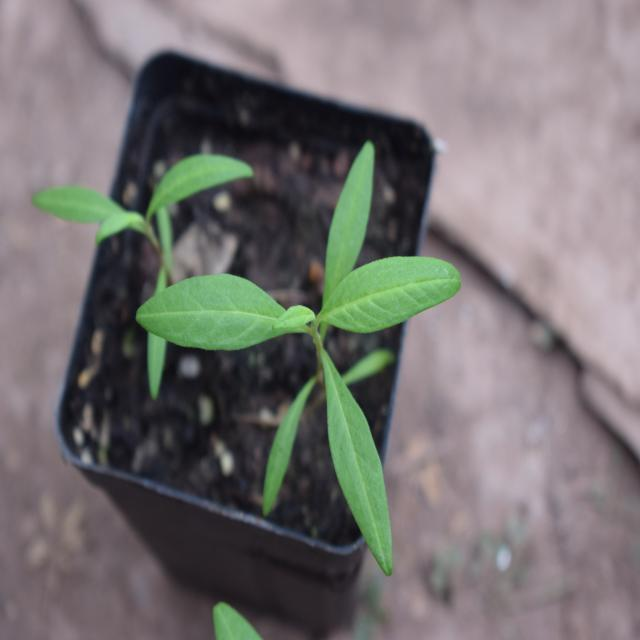white_smart_weed: (149, 205, 476, 587)
